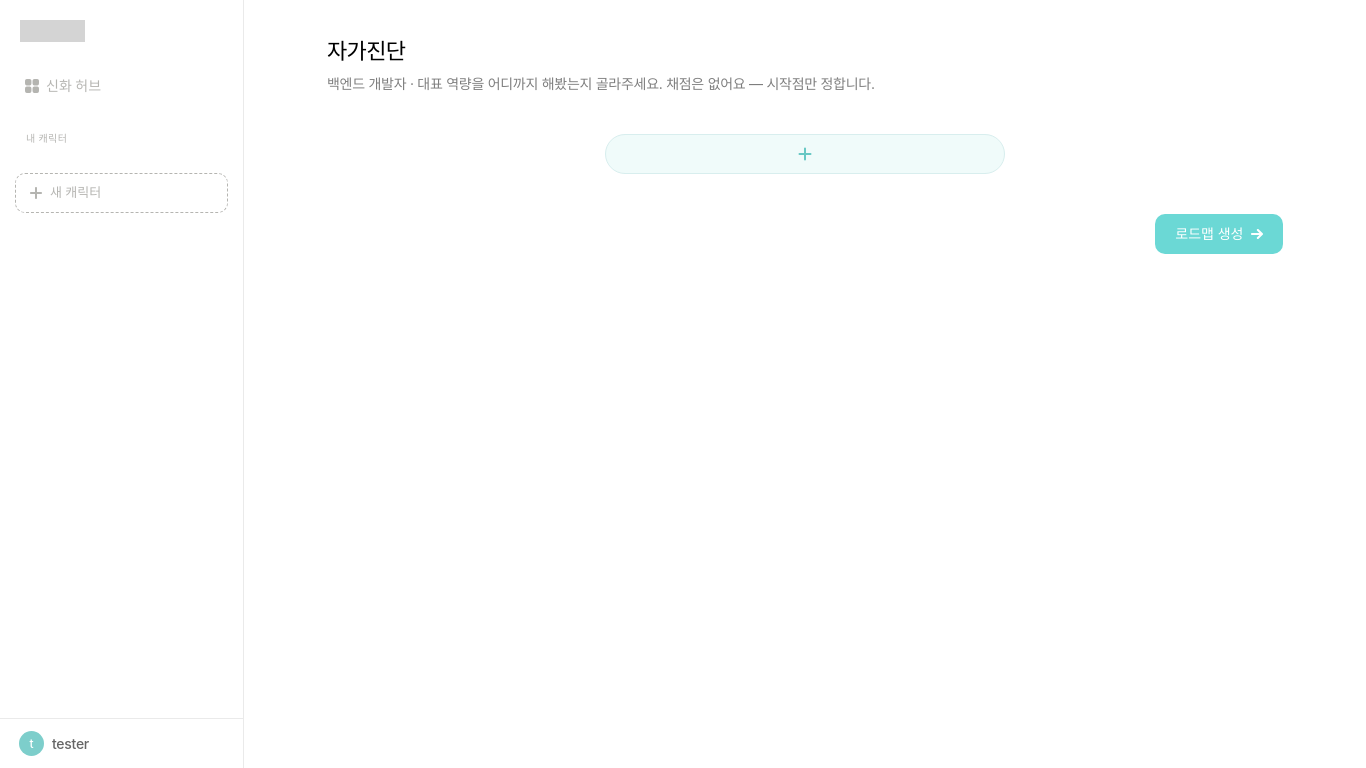
Test: roadmap generation loading › 로드맵 생성 요청이 진행 중인 동안 전용 로딩 모달을 표시한다
Step 1. Click the button "로드맵 생성" → point(1219, 234), box [1155, 214, 1283, 254]
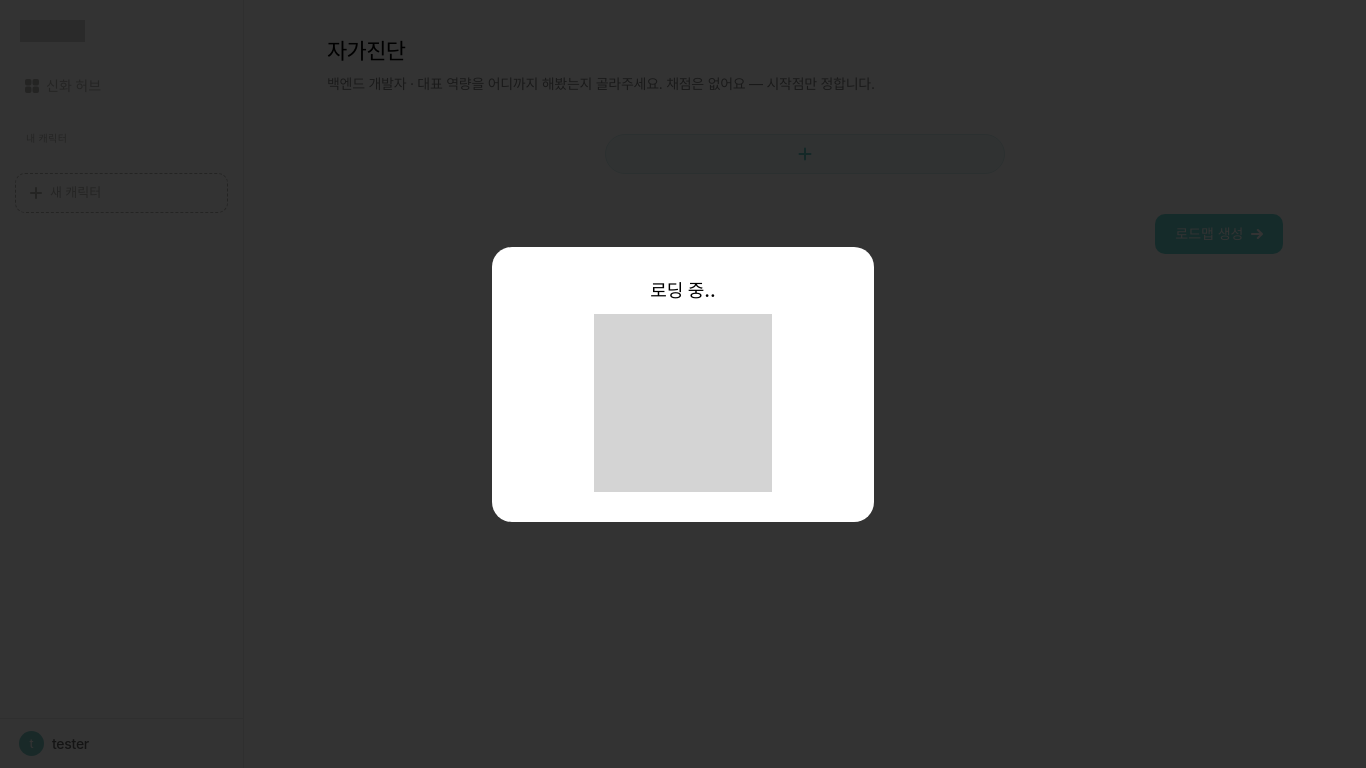
Expected: the message named "로드맵 생성 로딩 중" reads "로딩 중..", [650, 280, 716, 300]
Expected: the button "로드맵 생성" is disabled, [1155, 214, 1283, 254]
